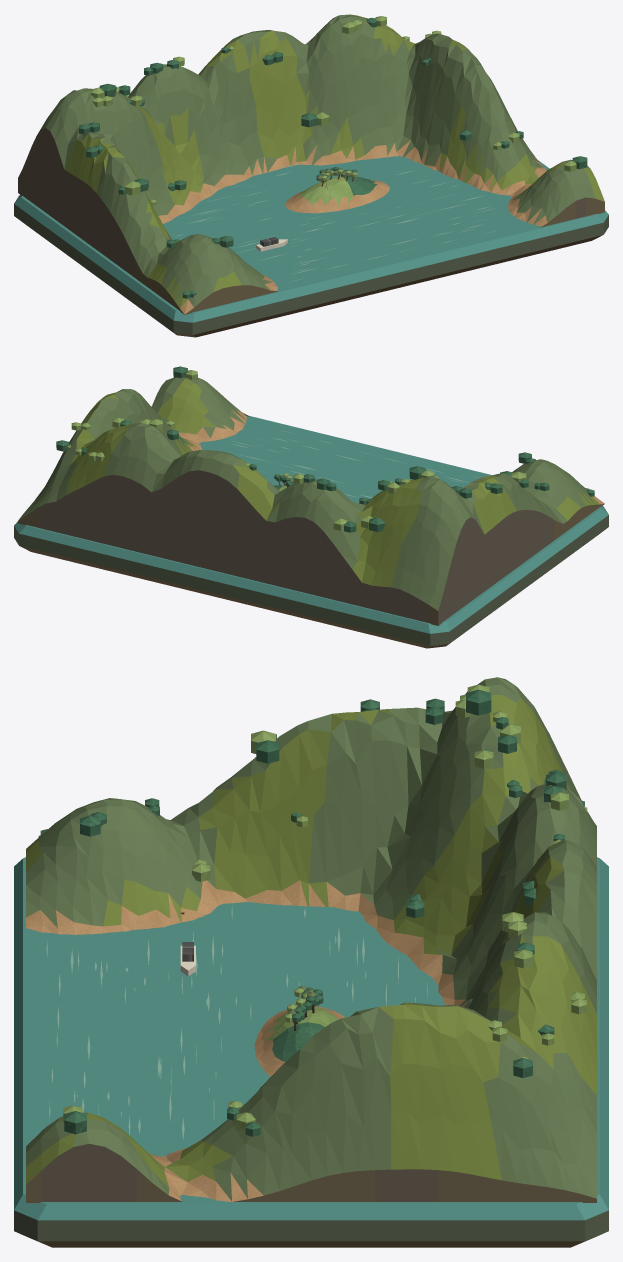
Rendered from sun-moon-lake.glb.
3 renders of one model, top to bottom at view 1: azimuth 30°, elevation 25°; view 2: azimuth 150°, elevation 25°; view 3: azimuth 270°, elevation 25°, orthographic. The views are drawn at different scales.
Visible parts, largest first — view 1: 日月潭; view 2: 日月潭; view 3: 日月潭.
Boxes of the visible parts, x1,y1,x2,y2 form: 日月潭: (14,14,608,337); 日月潭: (14,366,608,648); 日月潭: (14,677,608,1247).
Size of the model in its own units: 6.15 by 1.99 by 4.25.
Materials: 15 (7 with a texture image).
